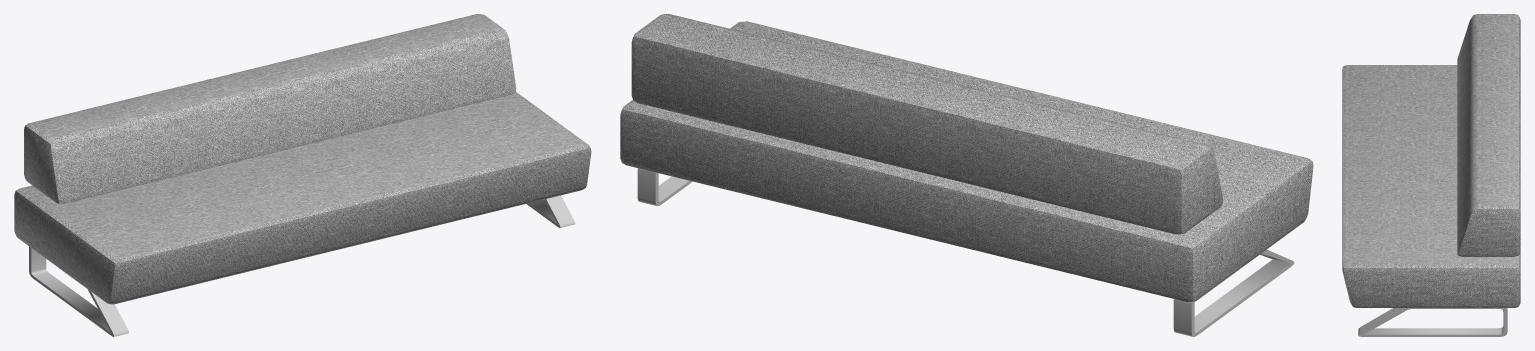
The model's file is D_Bench_004.fbx.
3 renders of one model, left to right at view 1: azimuth 30°, elevation 25°; view 2: azimuth 150°, elevation 25°; view 3: azimuth 270°, elevation 25°, orthographic. The views are drawn at different scales.
Parts seen in each view (by area): view 1: D_Bench_004; view 2: D_Bench_004; view 3: D_Bench_004.
Boxes of the visible parts, x1,y1,x2,y2 form: D_Bench_004: [14, 14, 591, 336]; D_Bench_004: [620, 14, 1313, 336]; D_Bench_004: [1342, 14, 1520, 336].
Bounding box in the file's own units: 2.98 × 0.874 × 1.1.
